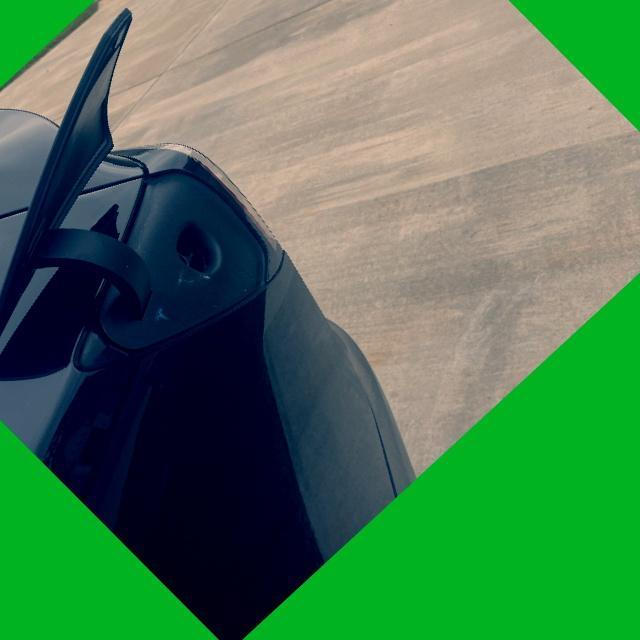Tesla Model-S-: (154, 208, 240, 298)
